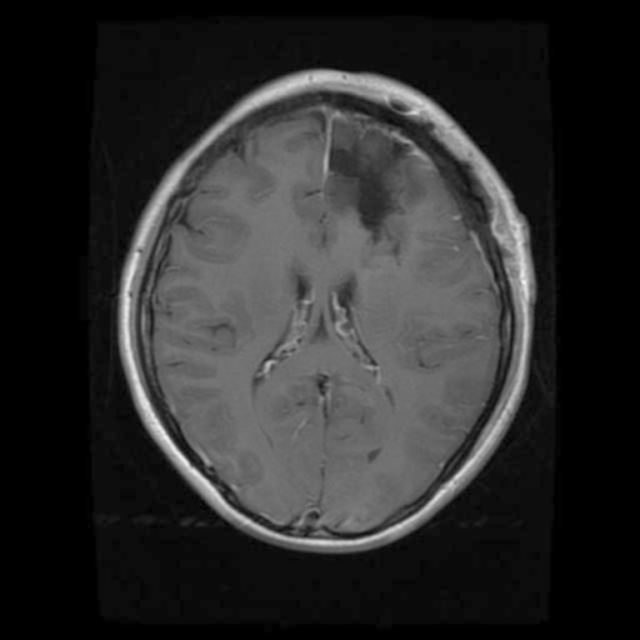pituitary tumor: (322, 142, 388, 236)
